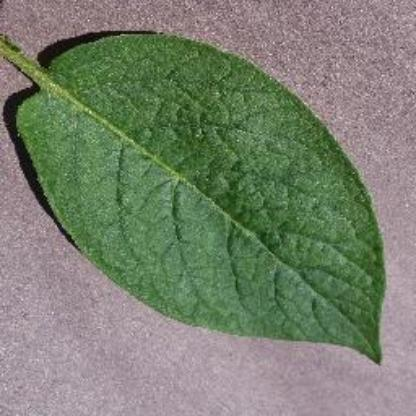Healthy-plant: (0, 19, 392, 373)
